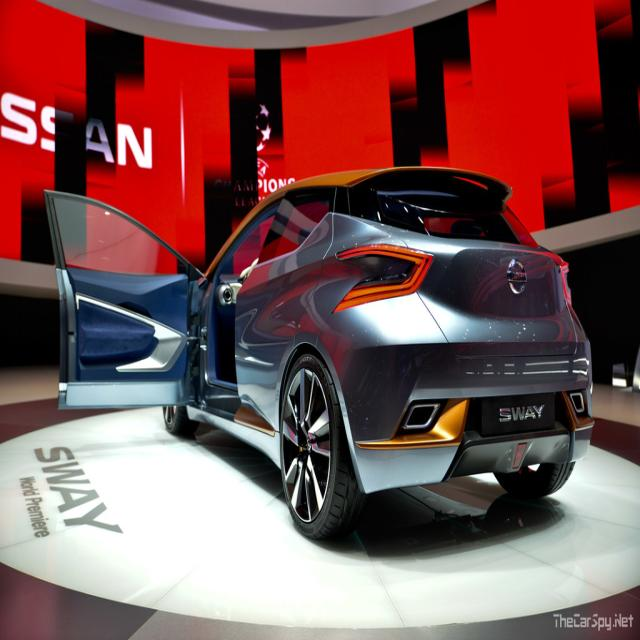car: (43, 158, 589, 537)
